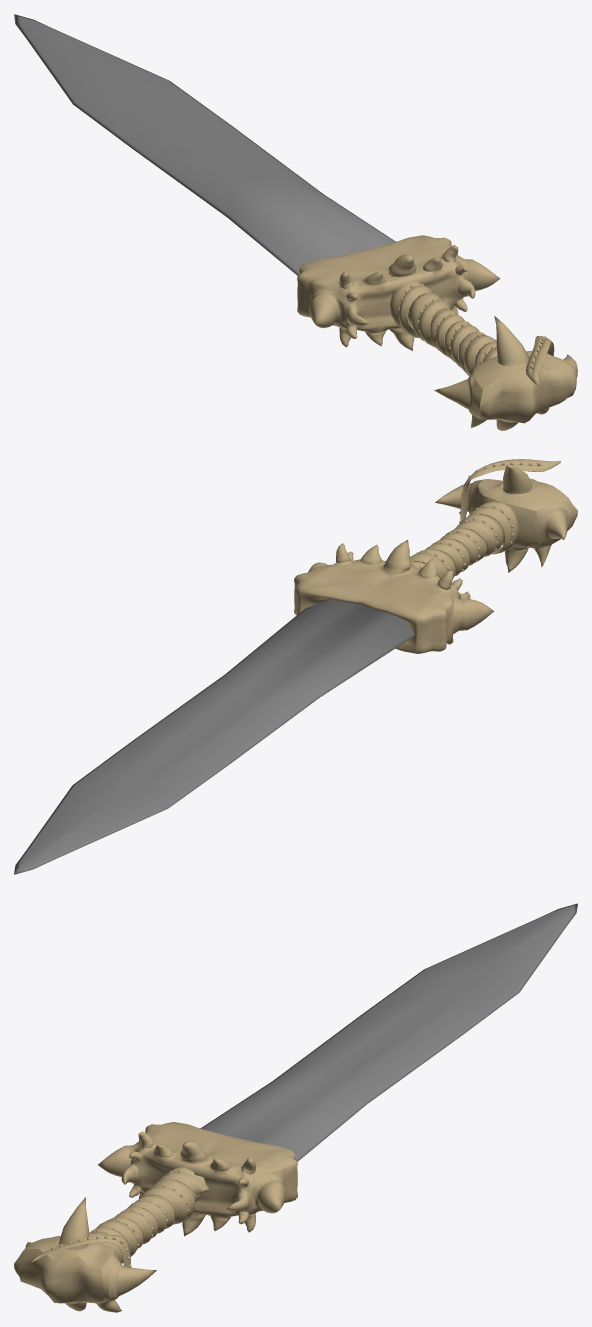
Rendered from TEMP_BLADE.fbx.
3 renders of one model, top to bottom at view 1: azimuth 30°, elevation 25°; view 2: azimuth 150°, elevation 25°; view 3: azimuth 330°, elevation 25°, orthographic.
Visible parts, largest first — view 1: TongueHighPoly; view 2: TongueHighPoly; view 3: TongueHighPoly.
Part boxes in pixels (x1,y1,x2,y2): TongueHighPoly: (14, 14, 577, 430); TongueHighPoly: (14, 459, 577, 874); TongueHighPoly: (14, 903, 577, 1312).
Size of the model in its own units: 30.94 by 17.8 by 156.
